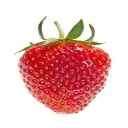strawberry: (15, 35, 115, 115)
